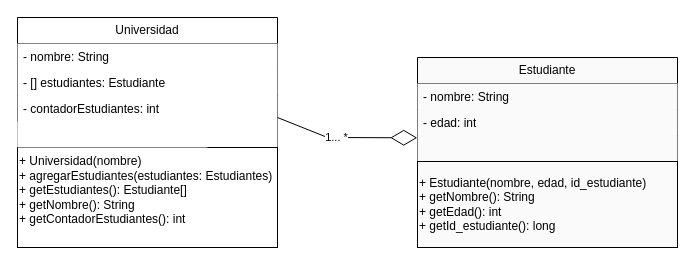
Some shapes in this 695 by 265 pixel diagram are drawn without their labels. The centre of each missing label's shape, as x and y in pixels:
- id_estudiante: long: point 547,148
- maxEstudiantes: int: point 112,134
